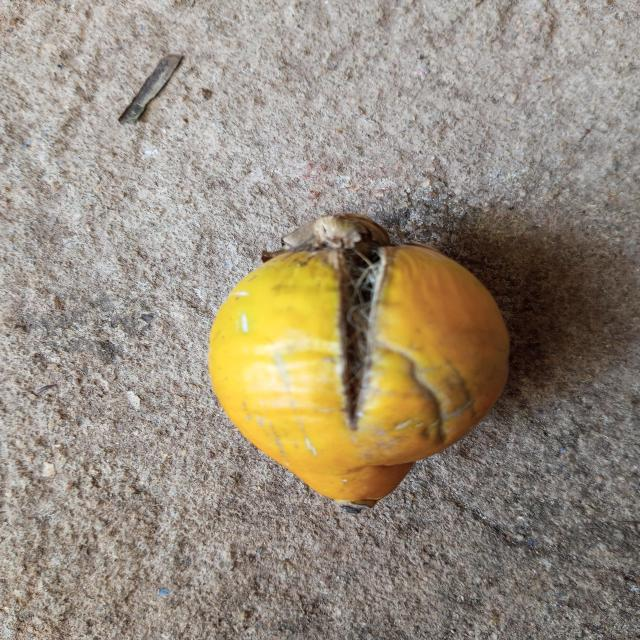damaged: (207, 215, 511, 510)
